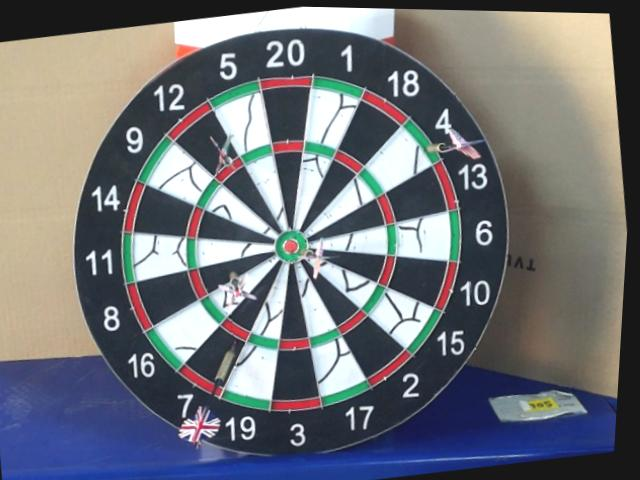bullseye: (274, 231, 311, 266)
double_4: (404, 118, 441, 164)
single_7: (188, 332, 237, 385)
single_8: (208, 252, 271, 289)
